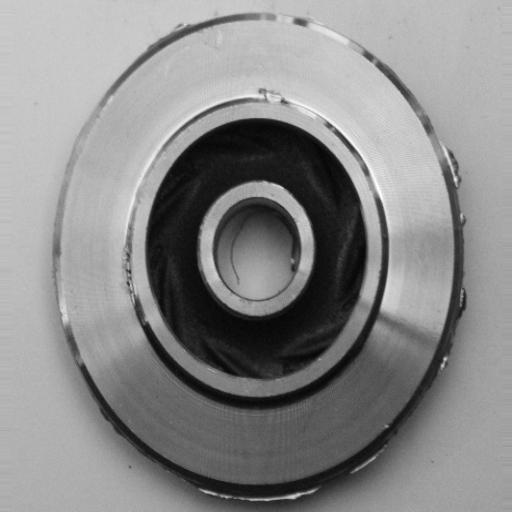casting_with_burr: (50, 11, 472, 505)
crack: (119, 190, 148, 331), (247, 78, 312, 116)
